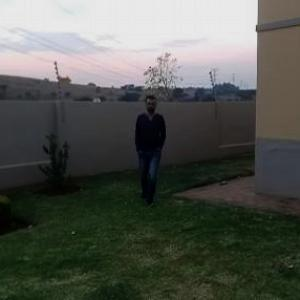follow: (135, 92, 172, 202)
